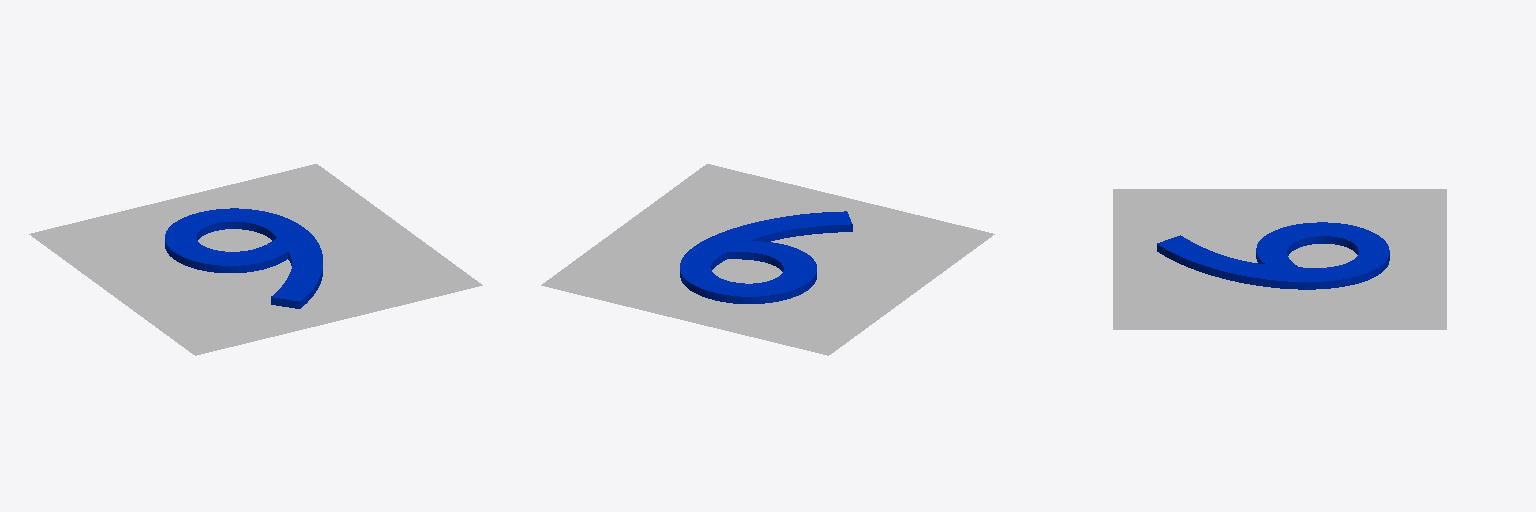
File: TileNine.obj
3 renders of one model, left to right at view 1: azimuth 30°, elevation 25°; view 2: azimuth 150°, elevation 25°; view 3: azimuth 270°, elevation 25°, orthographic.
Size of the model in its own units: 20 by 0.5 by 20.